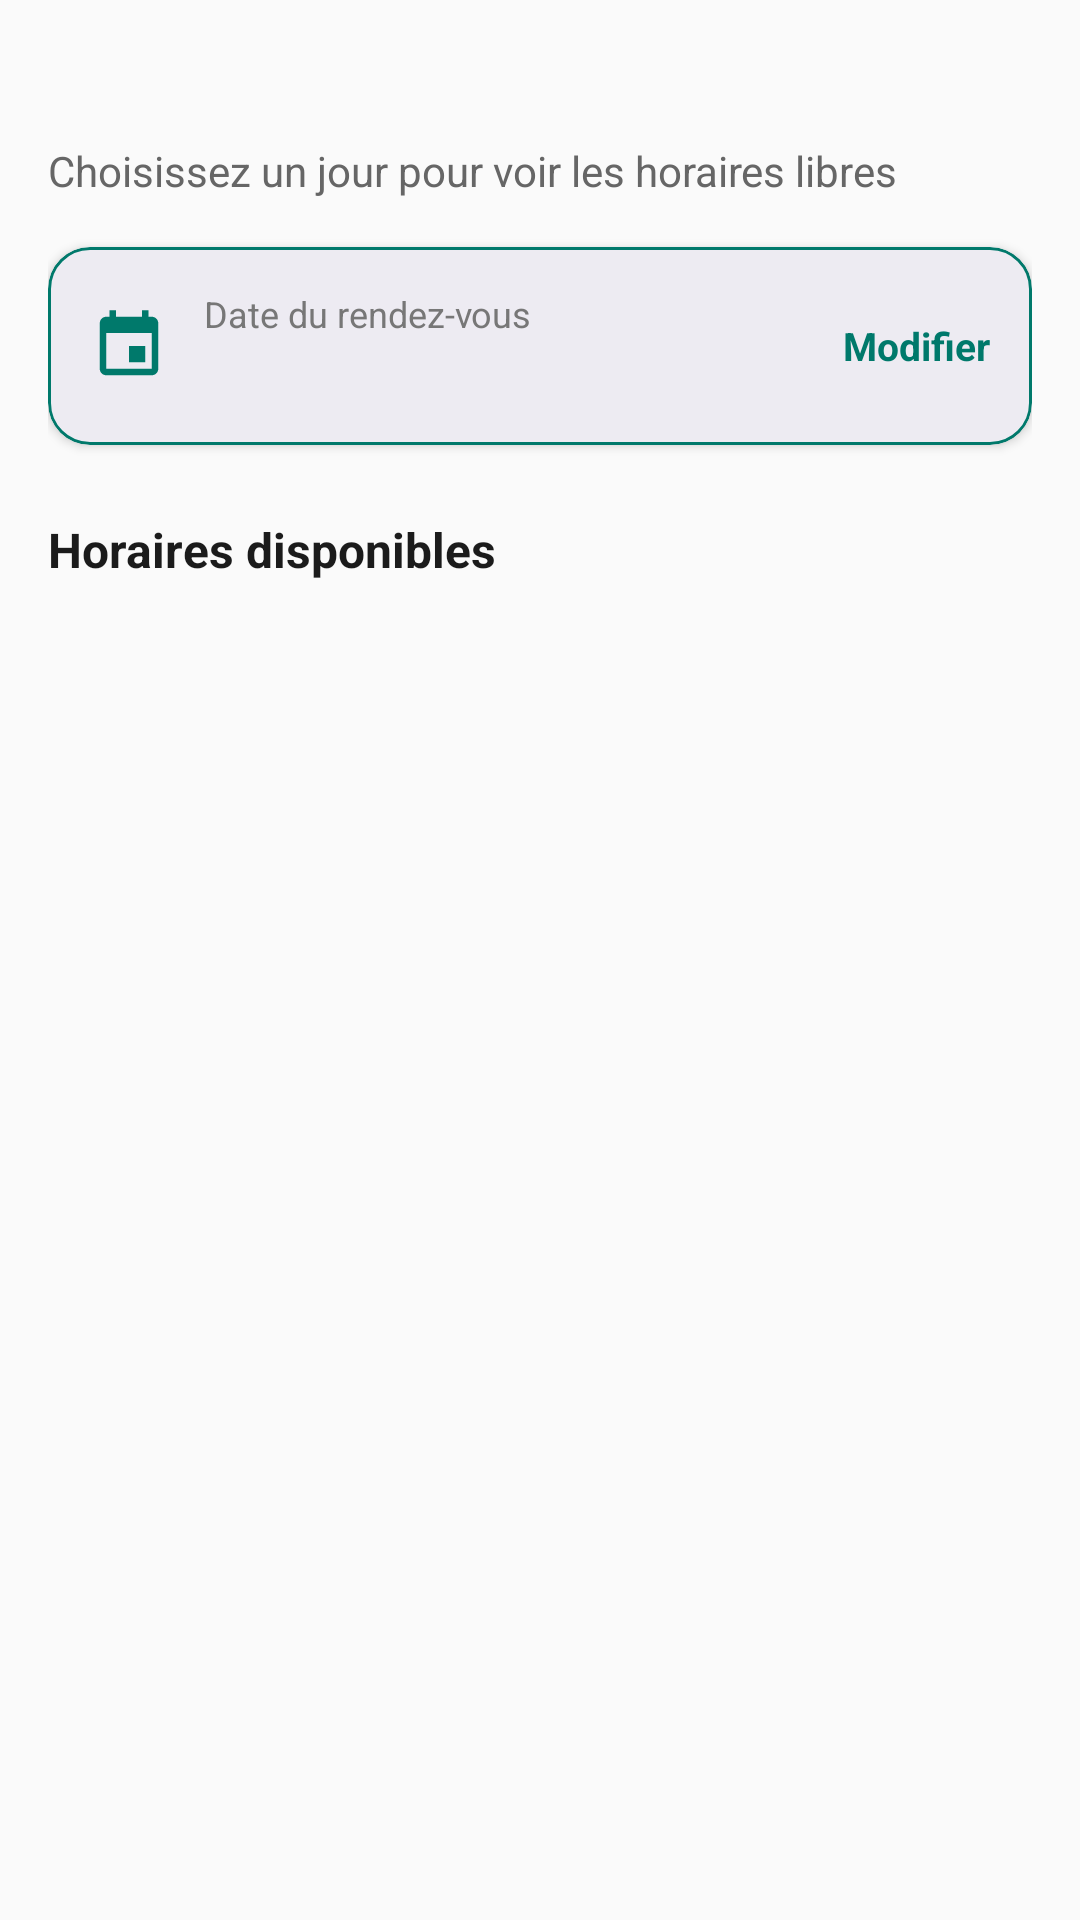

Named icons in this screenshot (1080w x 1920h) and their bounding boxes, (left=x1, top=y1, right=x2, bottom=y2):
calendar: (left=99, top=310, right=159, bottom=376)
